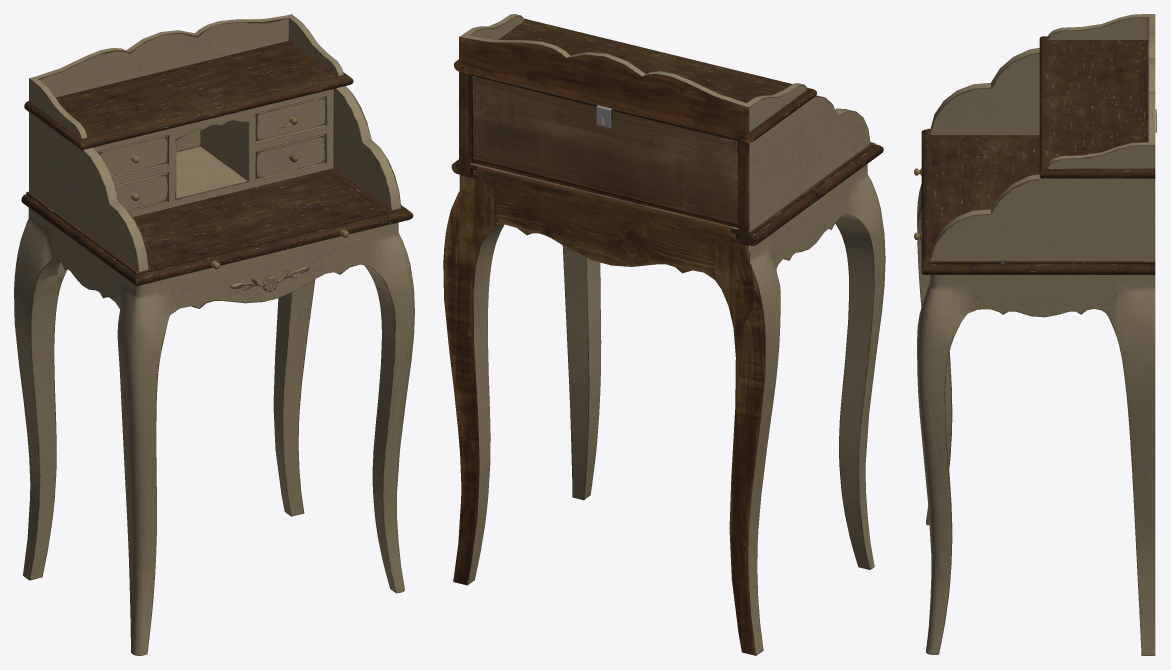
Rendered from example123.glb.
3 renders of one model, left to right at view 1: azimuth 30°, elevation 25°; view 2: azimuth 150°, elevation 25°; view 3: azimuth 270°, elevation 25°, orthographic. The views are drawn at different scales.
Parts seen in each view (by area): view 1: Buffer Layer (×2); view 2: Buffer Layer (×3); view 3: Buffer Layer (×2).
Part boxes in pixels (bbox=[...]): Buffer Layer (×2): bbox=[14, 14, 414, 655]; Buffer Layer (×3): bbox=[443, 14, 885, 655]; Buffer Layer (×2): bbox=[914, 14, 1155, 655].
Size of the model in its own units: 0.7 by 1.17 by 0.4912.
4 materials, 3 textured.
